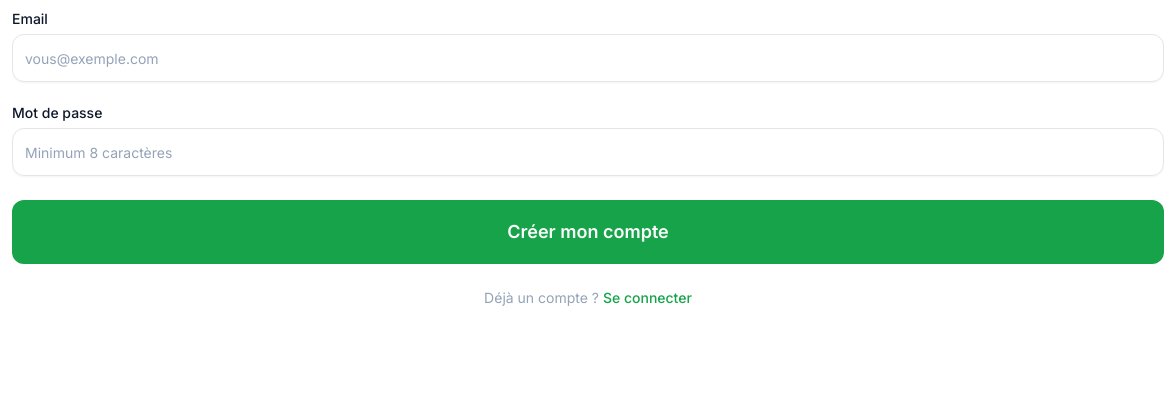
Test case: RegisterForm › should display error message when email is already registered
This screenshot has width=1176, height=401.
In the field labelled "Email": [588, 58] box [12,34,1164,82], type "existing@example.com"
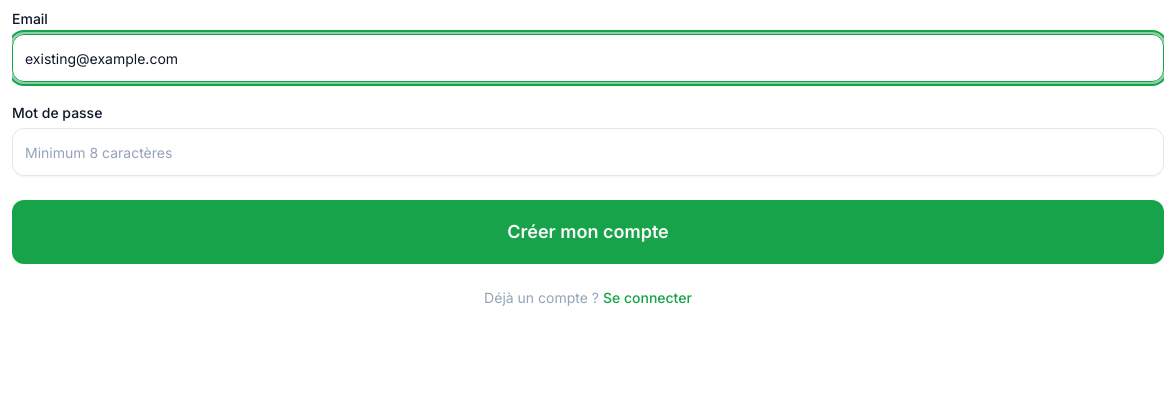
In the password field labelled "Mot de passe": [588, 152] box [12,128,1164,176], type "password123"
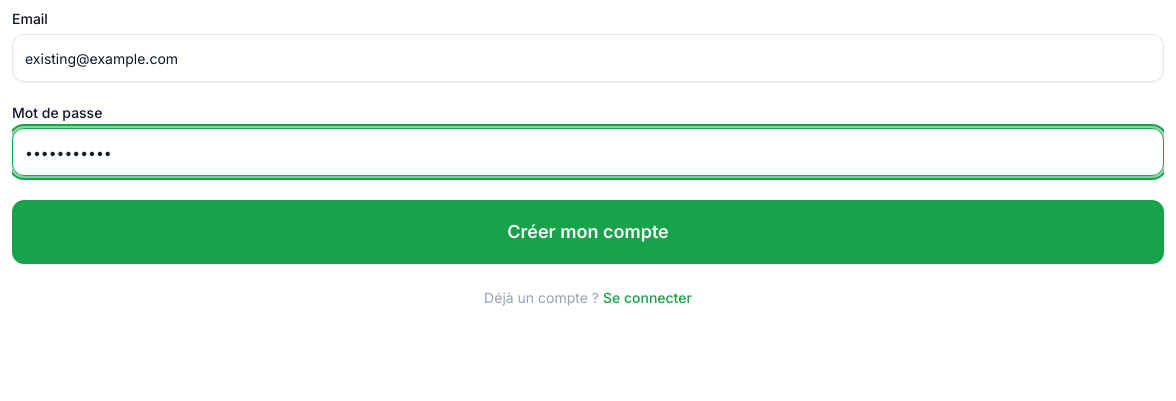
Click the button "Créer mon compte": [588, 232] box [12,200,1164,264]
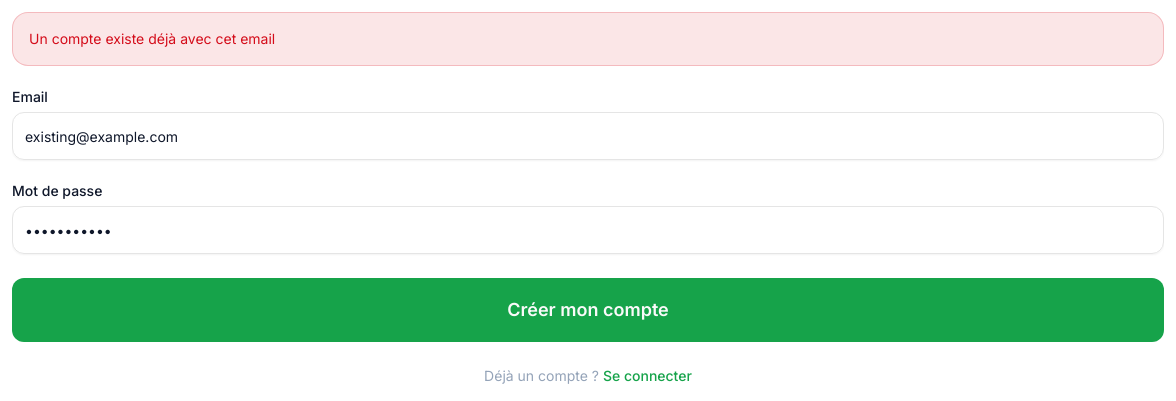
Expected: the text "Un compte existe déjà avec cet email" is shown, [12,12,1164,66]
